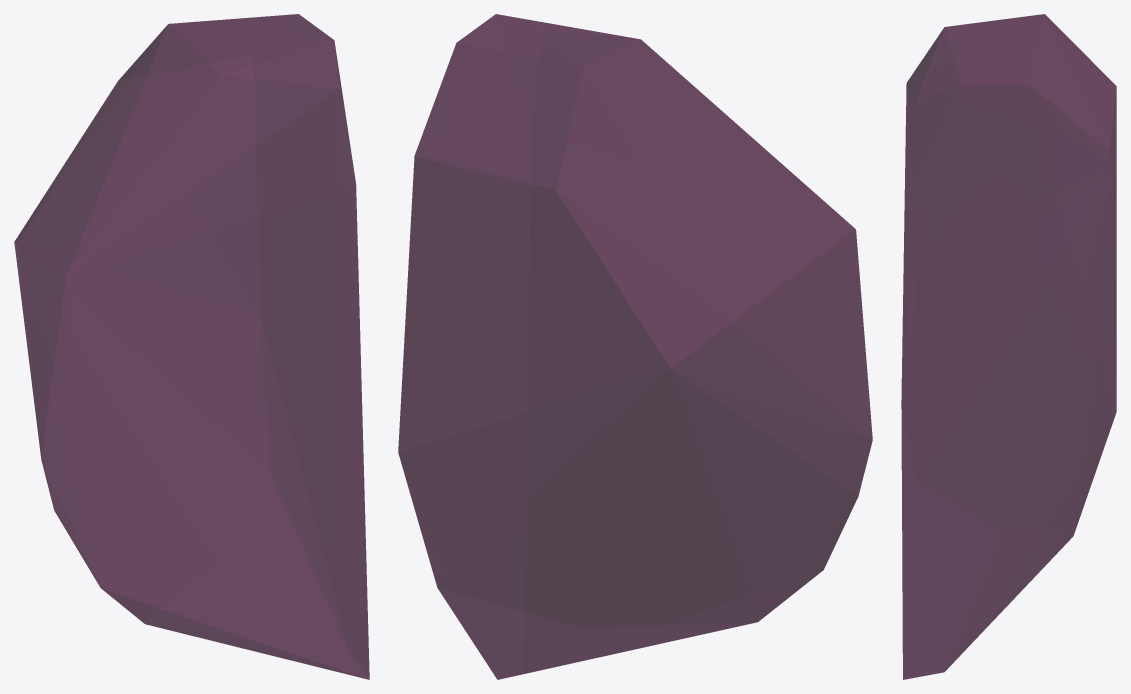
3 renders of one model, left to right at view 1: azimuth 30°, elevation 25°; view 2: azimuth 150°, elevation 25°; view 3: azimuth 270°, elevation 25°, orthographic. The views are drawn at different scales.
Parts seen in each view (by area): view 1: Shape_IndexedFaceSet.009_Shape_IndexedFaceSet.11087; view 2: Shape_IndexedFaceSet.009_Shape_IndexedFaceSet.11087; view 3: Shape_IndexedFaceSet.009_Shape_IndexedFaceSet.11087.
Part boxes in pixels (x1,y1,x2,y2): Shape_IndexedFaceSet.009_Shape_IndexedFaceSet.11087: [14, 14, 369, 679]; Shape_IndexedFaceSet.009_Shape_IndexedFaceSet.11087: [398, 14, 872, 679]; Shape_IndexedFaceSet.009_Shape_IndexedFaceSet.11087: [901, 14, 1116, 679].
Bounding box in the file's own units: 0.1775 × 0.3314 × 0.1065.
